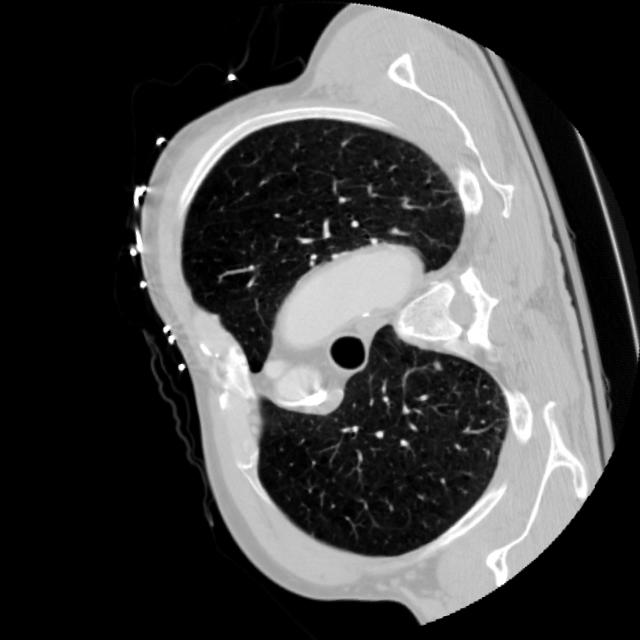nodule: (423, 353, 449, 379)
